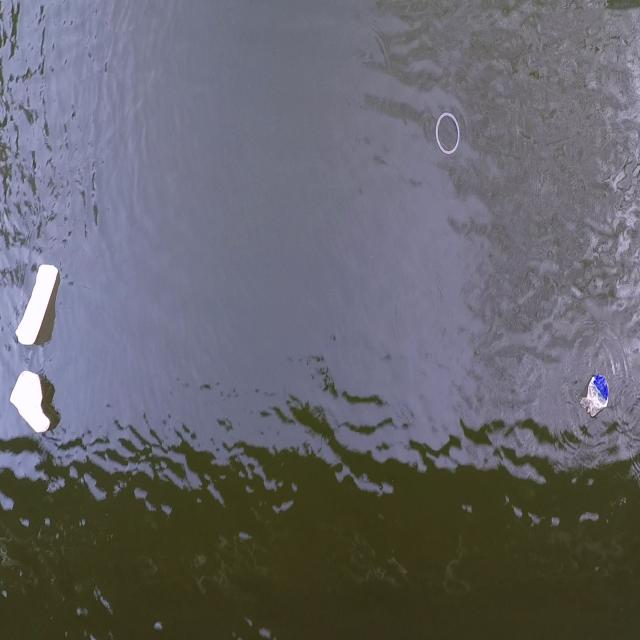Autre plastique: (11, 258, 62, 356), (4, 368, 56, 442)
Sac plastique: (576, 366, 612, 426)
